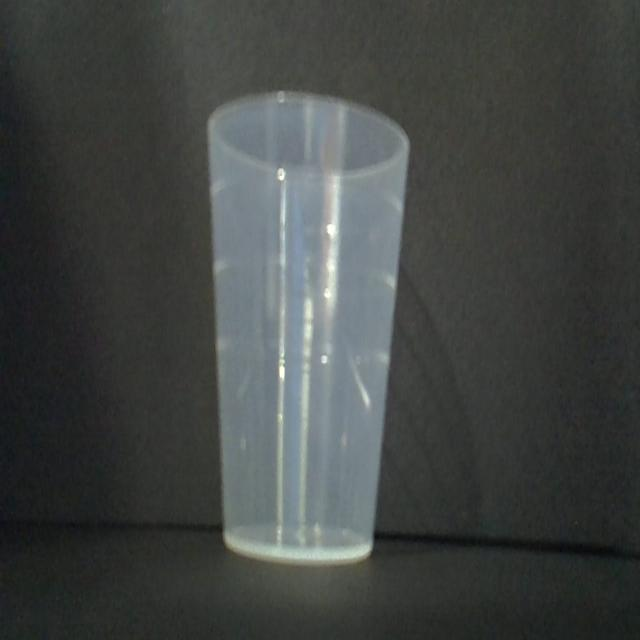cup: (205, 90, 410, 570)
